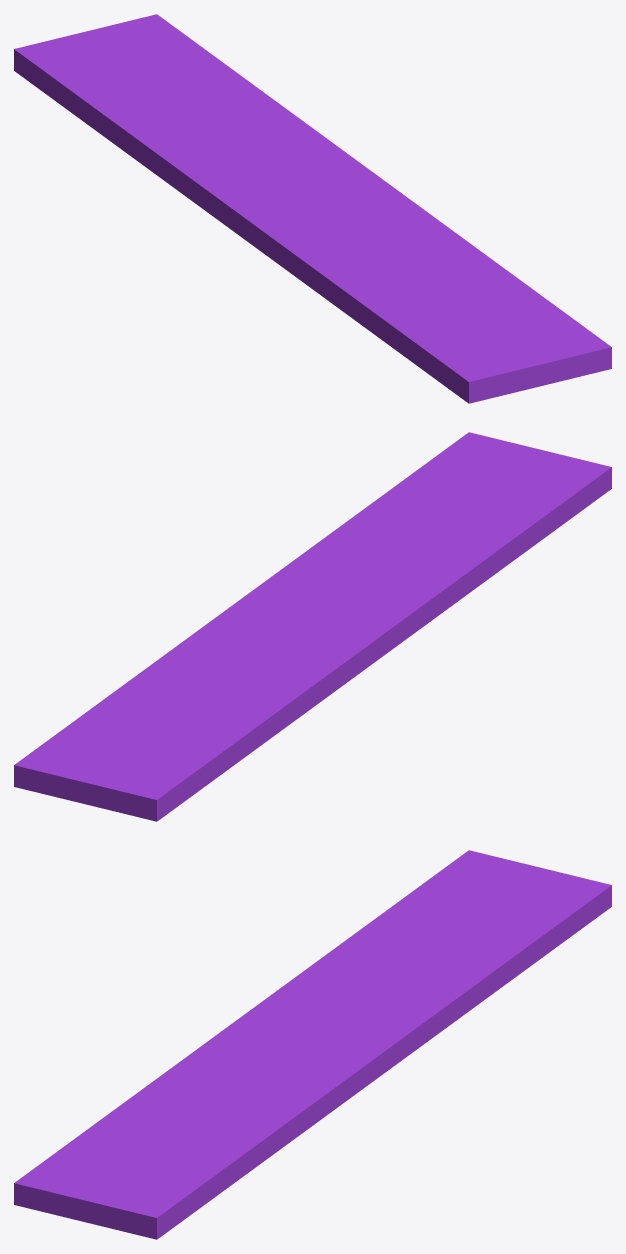
The model's file is StairsStep_68_chunks.fbx.
3 views of the same model, one above another, from view 1: azimuth 30°, elevation 25°; view 2: azimuth 150°, elevation 25°; view 3: azimuth 330°, elevation 25° (orthographic).
Visible parts, largest first — view 1: StairsStep_68_2, StairsStep_68_8, StairsStep_68_6, StairsStep_68_4, StairsStep_68_7, StairsStep_68_1, StairsStep_68_5, StairsStep_68_0, StairsStep_68_9; view 2: StairsStep_68_2, StairsStep_68_6, StairsStep_68_8, StairsStep_68_4, StairsStep_68_7, StairsStep_68_1, StairsStep_68_5, StairsStep_68_0, StairsStep_68_9; view 3: StairsStep_68_2, StairsStep_68_8, StairsStep_68_4, StairsStep_68_6, StairsStep_68_1, StairsStep_68_7, StairsStep_68_0, StairsStep_68_5, StairsStep_68_9.
Boxes of the visible parts, x1=… form: StairsStep_68_2: x1=14, y1=14, x2=238, y2=157; StairsStep_68_8: x1=418, y1=245, x2=611, y2=396; StairsStep_68_6: x1=299, y1=257, x2=501, y2=403; StairsStep_68_4: x1=131, y1=125, x2=315, y2=236; StairsStep_68_7: x1=241, y1=201, x2=443, y2=280; StairsStep_68_1: x1=310, y1=158, x2=482, y2=252; StairsStep_68_5: x1=210, y1=74, x2=306, y2=159; StairsStep_68_0: x1=278, y1=103, x2=353, y2=177; StairsStep_68_9: x1=381, y1=241, x2=455, y2=276; StairsStep_68_2: x1=14, y1=690, x2=276, y2=821; StairsStep_68_6: x1=412, y1=459, x2=611, y2=610; StairsStep_68_8: x1=337, y1=432, x2=578, y2=540; StairsStep_68_4: x1=216, y1=615, x2=388, y2=733; StairsStep_68_7: x1=321, y1=546, x2=444, y2=655; StairsStep_68_1: x1=211, y1=526, x2=340, y2=624; StairsStep_68_5: x1=96, y1=638, x2=237, y2=705; StairsStep_68_0: x1=135, y1=621, x2=269, y2=676; StairsStep_68_9: x1=336, y1=538, x2=421, y2=558; StairsStep_68_2: x1=352, y1=850, x2=611, y2=966; StairsStep_68_8: x1=42, y1=1109, x2=304, y2=1239; StairsStep_68_4: x1=237, y1=936, x2=409, y2=1034; StairsStep_68_6: x1=14, y1=1059, x2=213, y2=1211; StairsStep_68_1: x1=285, y1=1025, x2=414, y2=1130; StairsStep_68_7: x1=184, y1=1020, x2=304, y2=1103; StairsStep_68_0: x1=356, y1=965, x2=531, y2=1072; StairsStep_68_5: x1=388, y1=945, x2=530, y2=1012; StairsStep_68_9: x1=204, y1=1091, x2=289, y2=1111.
Size of the model in its own units: 200 by 28.98 by 1102.
